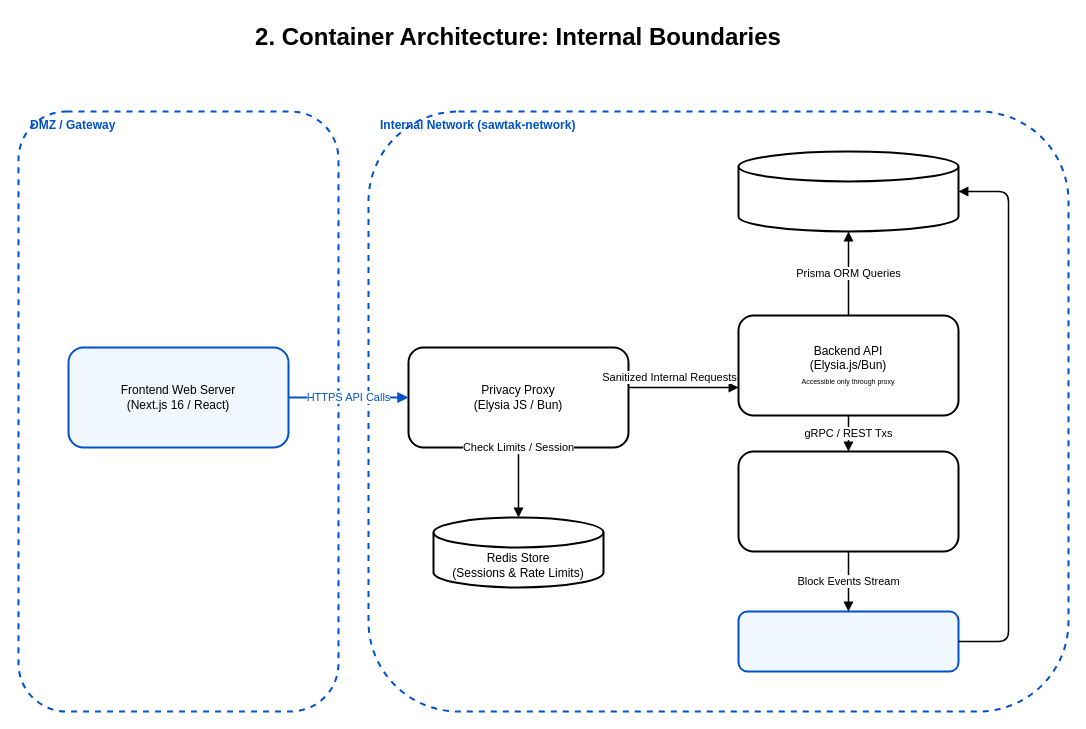
This 1086x729 diagram has some shape labels left out. The shapes that lost their labels are listed below. From the top down, each one's centre as x and y in pixels, then its label:
At point 848,191: "PostgreSQL (Relational Data)".
At point 848,501: "Cosmos Node (x/poa) (Blockchain Validator)".
At point 848,641: "Cosmos Indexer Service".
